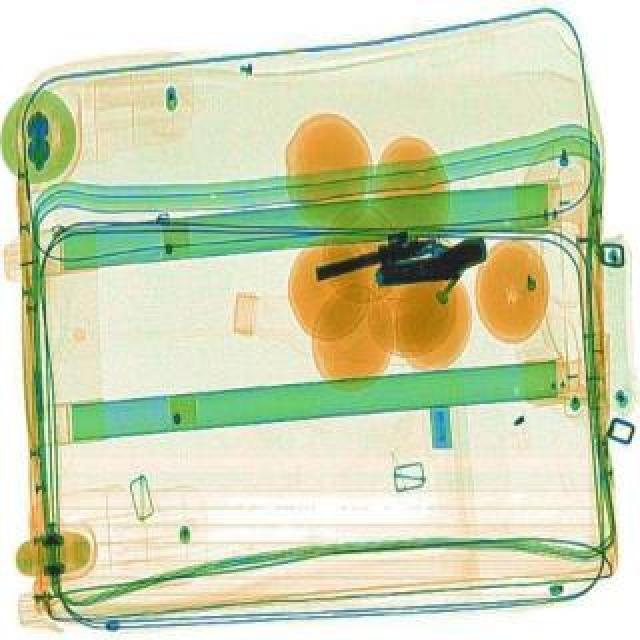gun: (310, 232, 446, 280), (370, 238, 490, 286)
